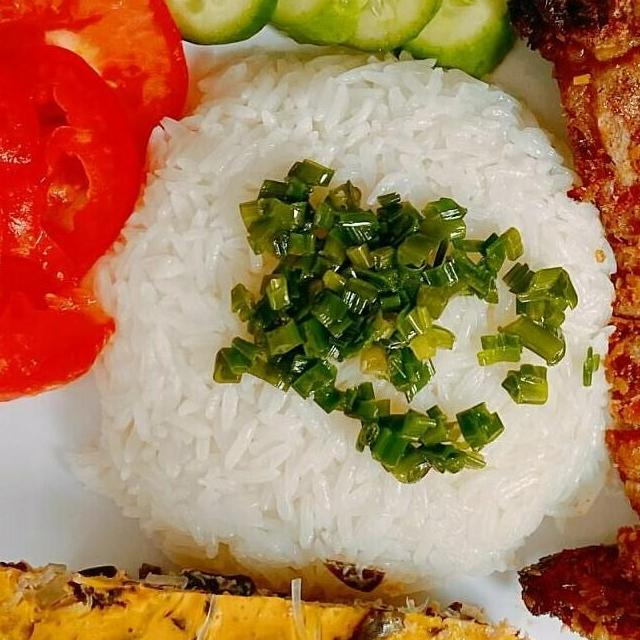cha: (0, 552, 550, 640)
com: (78, 39, 626, 614)
com suon cha: (0, 0, 640, 640)
suon: (499, 0, 640, 640)
